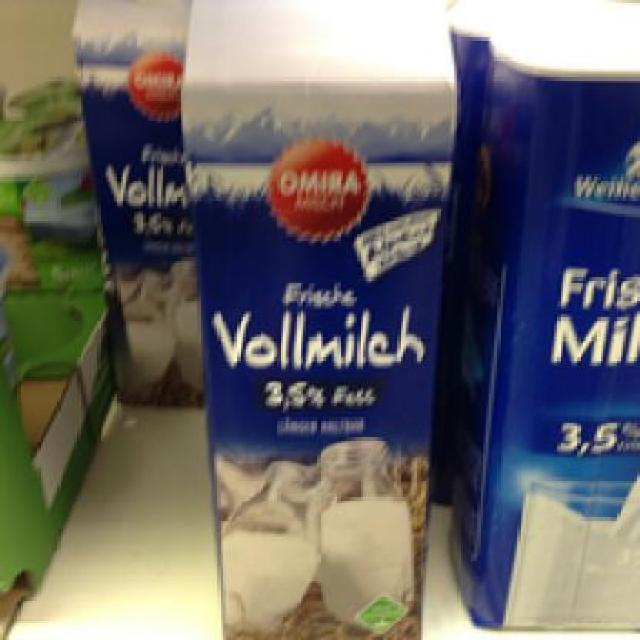Milk: (170, 0, 464, 620), (477, 8, 637, 614), (67, 0, 209, 415)
